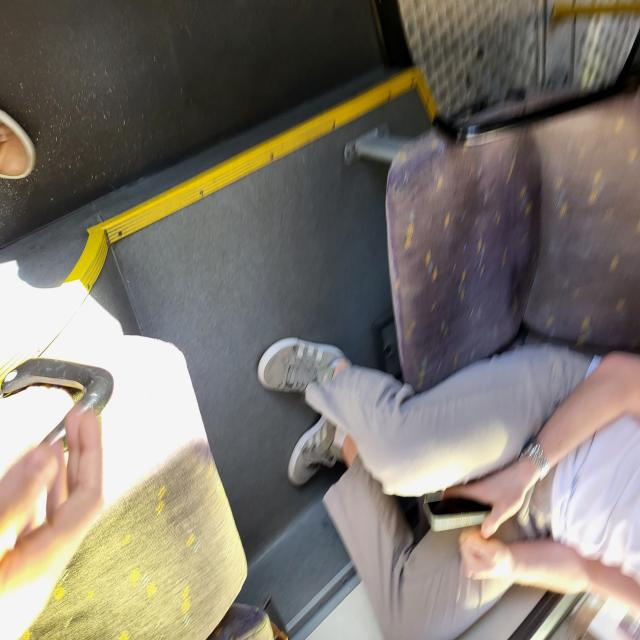asiento-libre: (228, 0, 457, 341), (411, 521, 640, 640)
